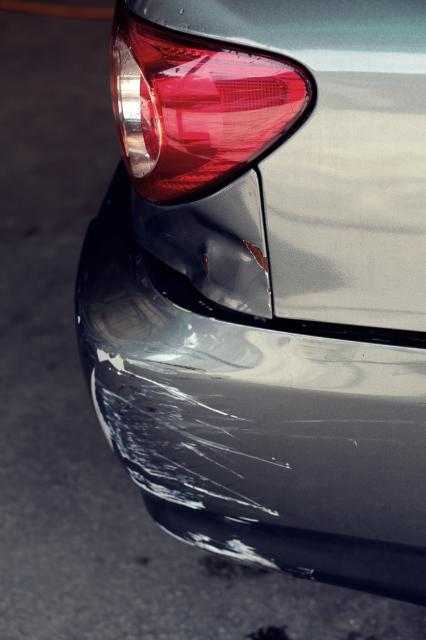dent: (137, 202, 269, 316)
scratch: (87, 336, 426, 570)
